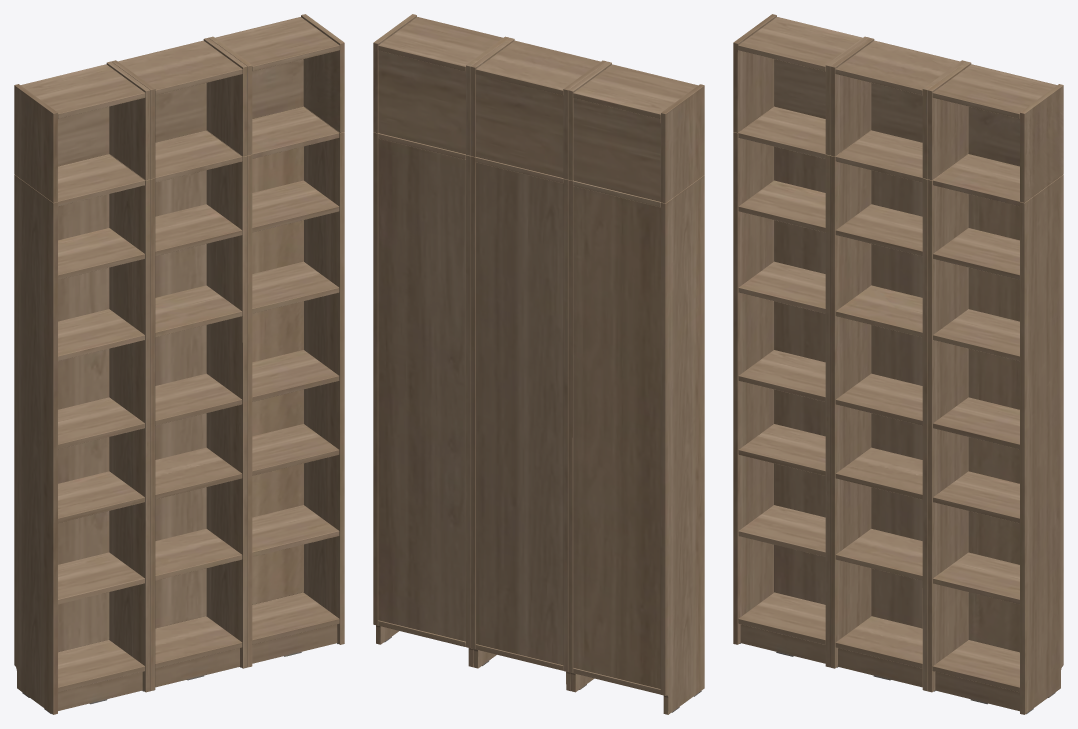
3 views of the same model, side by side, from view 1: azimuth 30°, elevation 25°; view 2: azimuth 150°, elevation 25°; view 3: azimuth 330°, elevation 25° (orthographic).
Visible parts, largest first — view 1: Mesh_0; view 2: Mesh_0; view 3: Mesh_0.
Boxes of the visible parts, x1,y1,x2,y2 form: Mesh_0: [14, 14, 344, 714]; Mesh_0: [373, 14, 704, 714]; Mesh_0: [733, 14, 1063, 714].
Size of the model in its own units: 1.2 by 2.37 by 0.2803.
1 material, 1 textured.
